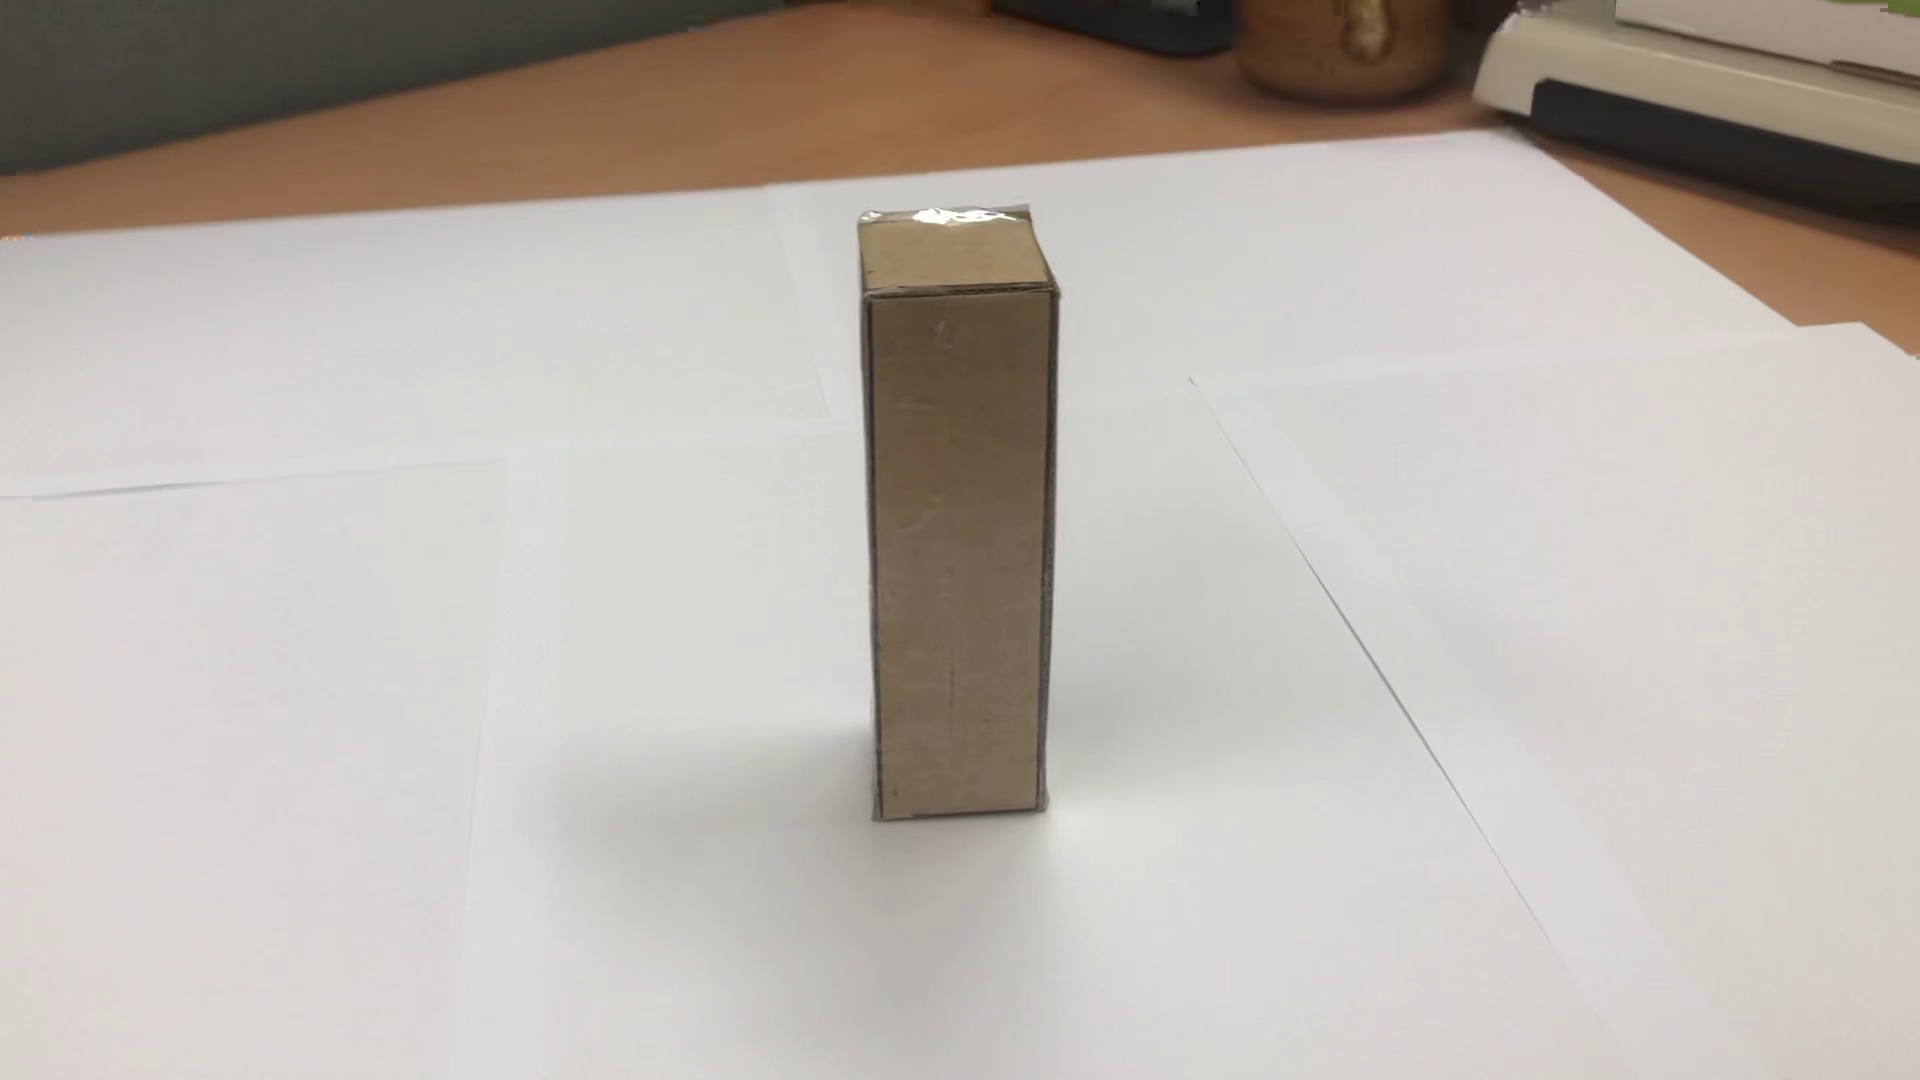box: (829, 193, 1088, 856)
